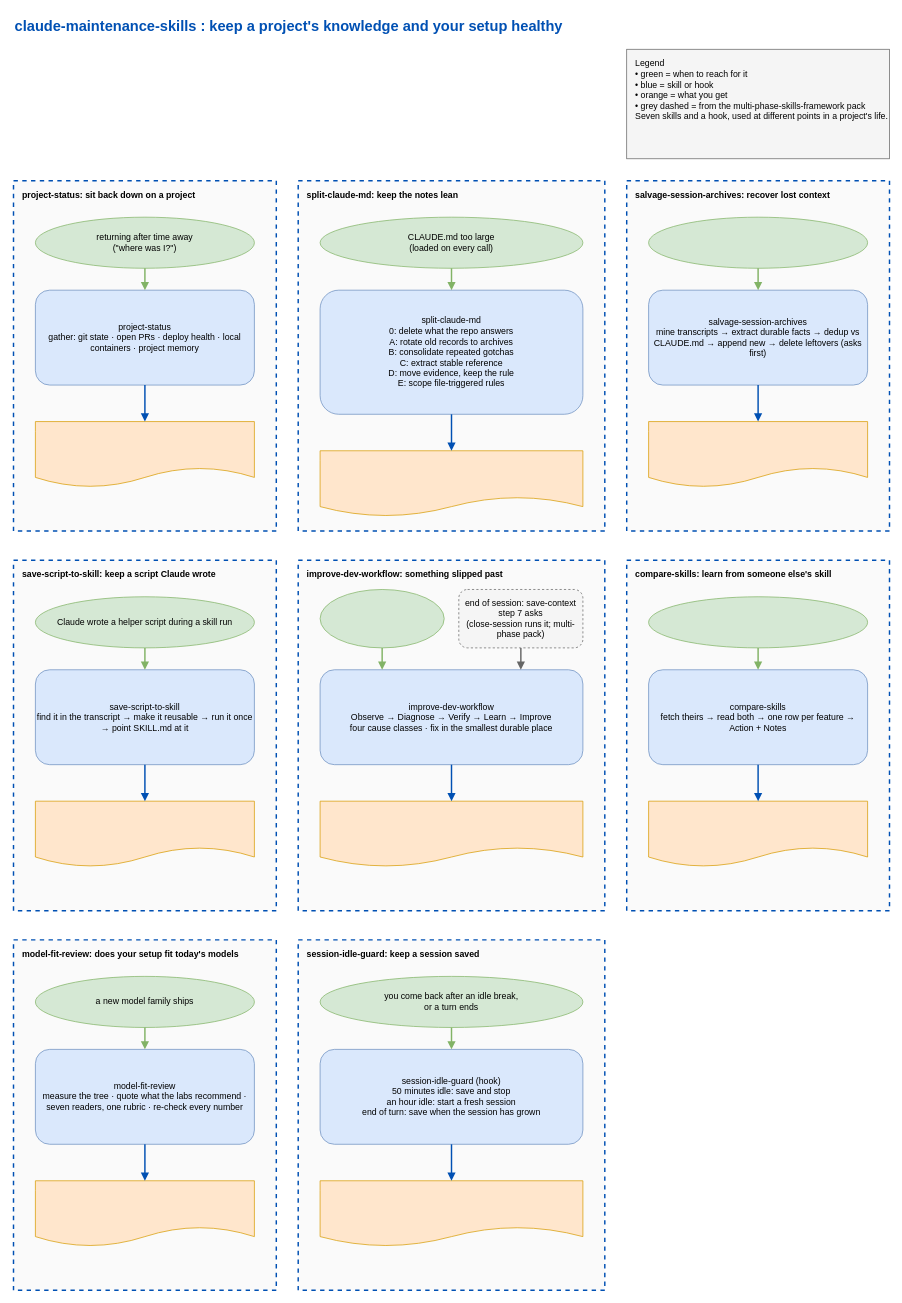
The diagram is 902 pixels wide and 1303 high, and some of its shapes have lost their labels. The shapes that lost their labels are listed below. From the top down, each one's centre as x and y in pixels, then its label:
point (758, 242): old session transcripts left over
point (144, 454): "state of the project now" + one suggested next action
point (758, 454): enriched CLAUDE.md + reclaimed disk
point (451, 483): lean CLAUDE.md + archives + reference files, each cut checked for loss
point (381, 618): a review, hook or rule should have caught it
point (758, 622): someone else's skill on the same topic
point (144, 833): scripts/ tool + SKILL.md that runs it next time
point (451, 833): upgraded skill, hook, agent or rule + a check that goes red on the miss
point (758, 833): COMPARISON.md (+ optional Google Sheet) you pick the actions
point (144, 1213): REPORT.md, your decisions first it recommends and never edits
point (451, 1213): a saved session, and no work on a cold one
